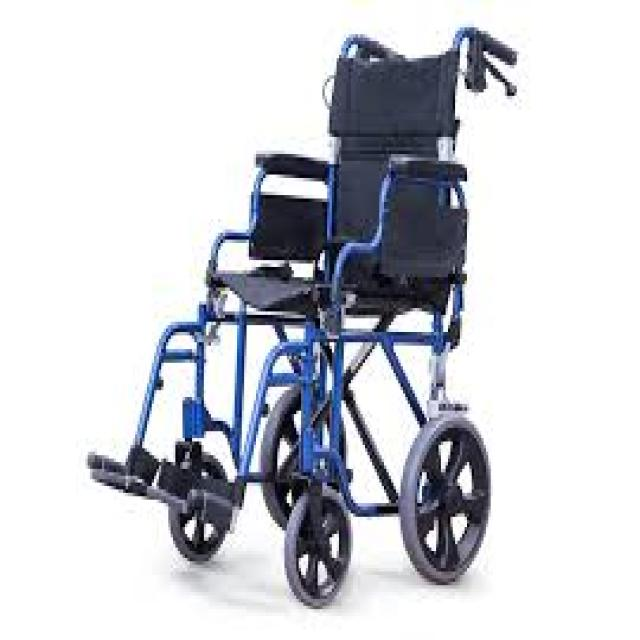wheelchairs: (80, 10, 496, 599)
